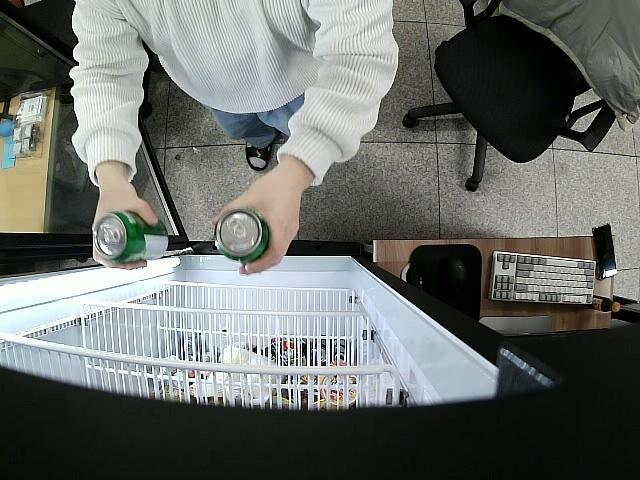12_chilsungCider: (95, 212, 168, 264), (213, 209, 270, 262)
